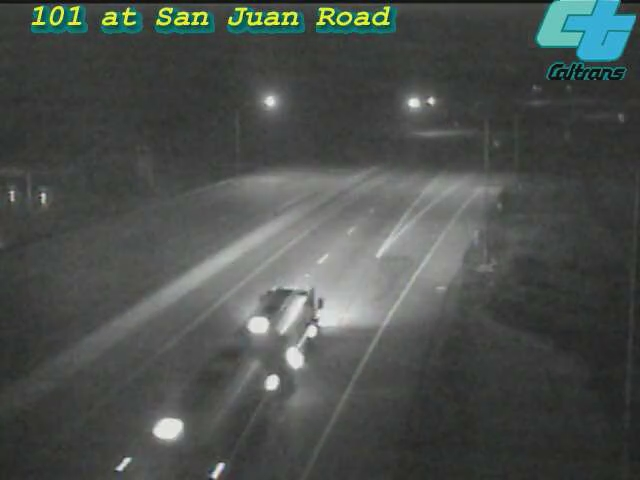vehicle: (197, 317, 307, 427)
